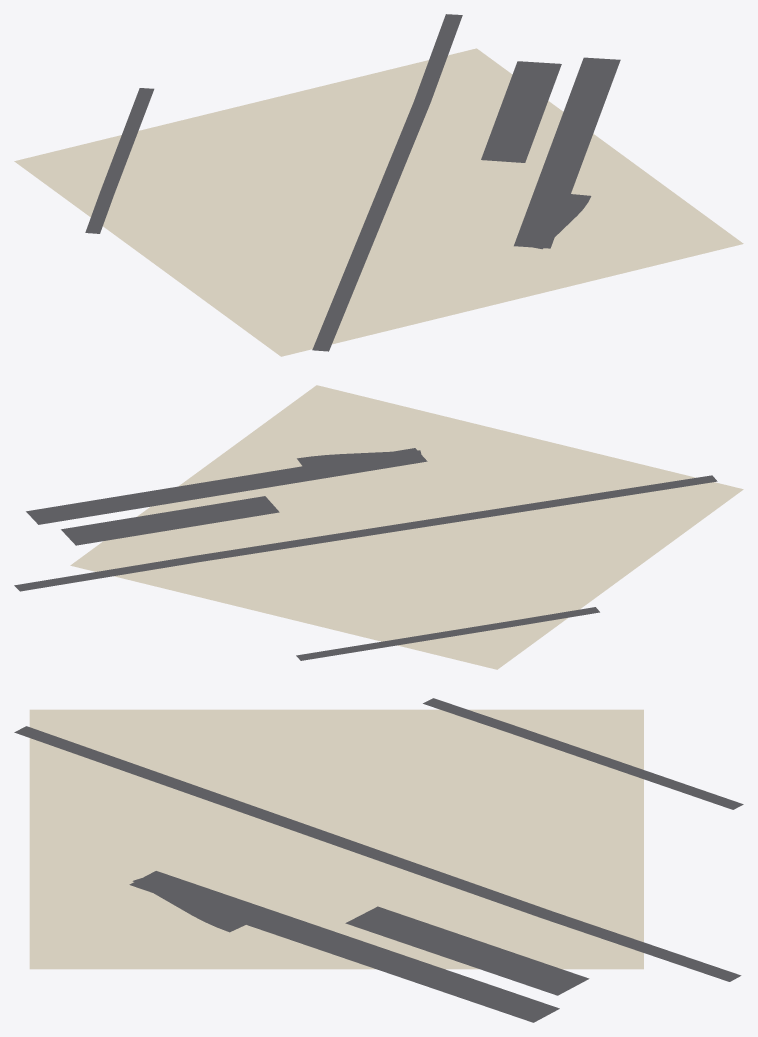
The model's file is tile_-6_1_far.glb.
3 renders of one model, top to bottom at view 1: azimuth 30°, elevation 25°; view 2: azimuth 150°, elevation 25°; view 3: azimuth 270°, elevation 25°, orthographic. The views are drawn at different scales.
Parts seen in each view (by area): view 1: nature_ground, roads_asphalt; view 2: nature_ground, roads_asphalt; view 3: nature_ground, roads_asphalt.
Boxes of the visible parts, x1,y1,x2,y2 form: nature_ground: [14, 48, 743, 356]; roads_asphalt: [85, 14, 620, 351]; nature_ground: [70, 385, 743, 669]; roads_asphalt: [14, 448, 717, 660]; nature_ground: [29, 709, 643, 969]; roads_asphalt: [14, 698, 743, 1022].
Size of the model in its own units: 313 by 0.12 by 297.
